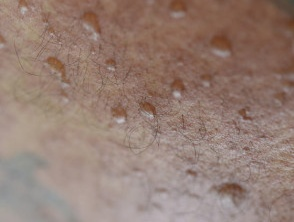SJS-TEN: (4, 0, 294, 216)
